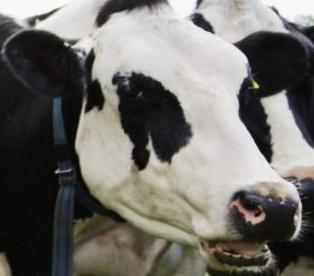muzzles: (189, 179, 306, 273)
